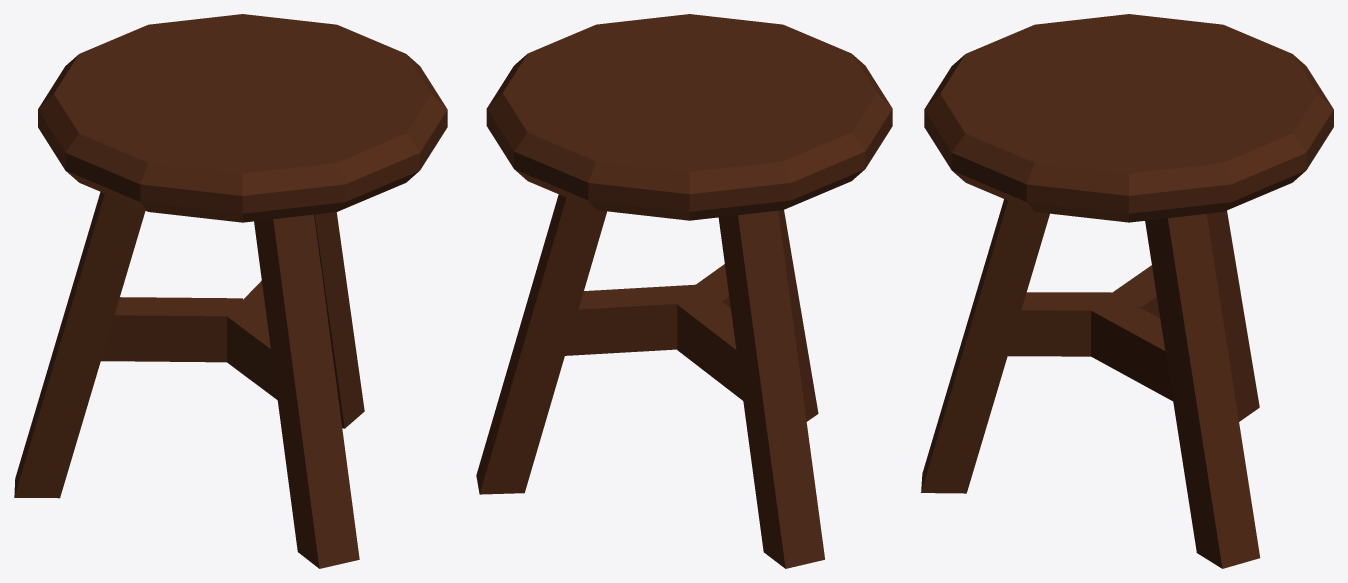
The model's file is 3er Hocker Var 3.fbx.
The picture shows the model from 3 angles, left to right: view 1: azimuth 30°, elevation 25°; view 2: azimuth 150°, elevation 25°; view 3: azimuth 270°, elevation 25°; orthographic projection.
Visible parts, largest first — view 1: 3er Hocker Var 3; view 2: 3er Hocker Var 3; view 3: 3er Hocker Var 3.
Part boxes in pixels (left/top/right/bottom): 3er Hocker Var 3: left=14, top=14, right=447, bottom=568; 3er Hocker Var 3: left=476, top=14, right=892, bottom=568; 3er Hocker Var 3: left=921, top=14, right=1333, bottom=568.
Bounding box in the file's own units: 61.41 × 64.07 × 61.
